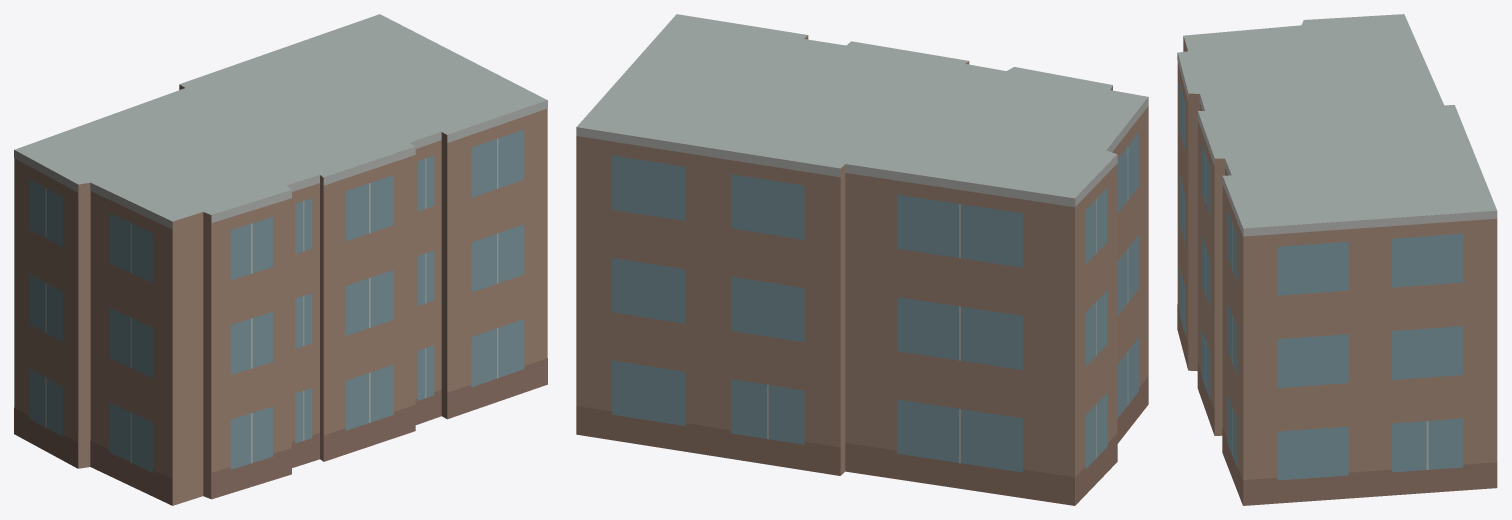
Rendered from survey-upis-32604553.glb.
The picture shows the model from 3 angles, left to right: view 1: azimuth 30°, elevation 25°; view 2: azimuth 150°, elevation 25°; view 3: azimuth 270°, elevation 25°; orthographic projection. The views are drawn at different scales.
Parts seen in each view (by area): view 1: survey-upis-32604553.tmp; view 2: survey-upis-32604553.tmp; view 3: survey-upis-32604553.tmp.
Boxes of the visible parts, left/top/right/bottom form: survey-upis-32604553.tmp: left=14, top=14, right=547, bottom=505; survey-upis-32604553.tmp: left=576, top=14, right=1148, bottom=505; survey-upis-32604553.tmp: left=1177, top=14, right=1497, bottom=505.
Bounding box in the file's own units: 14.12 × 8.5 × 8.89.
